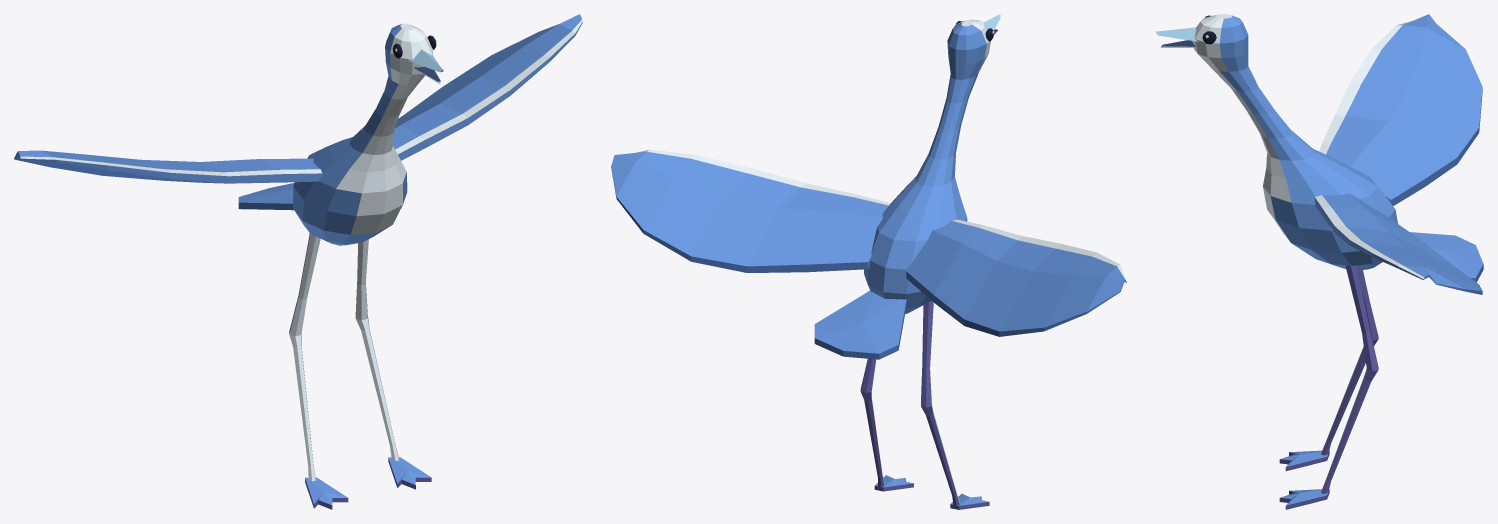
Rendered from reference_bird.glb.
3 views of the same model, side by side, from view 1: azimuth 30°, elevation 25°; view 2: azimuth 150°, elevation 25°; view 3: azimuth 270°, elevation 25° (orthographic). The views are drawn at different scales.
Visible parts, largest first — view 1: Body + flowing neck + head, Wing.L | shoulder pivot, Wing.R | shoulder pivot, Leg.R | long angular shank, Leg.L | long angular shank, Tail | broad fan, Webbed foot.R, Webbed foot.L; view 2: Wing.L | shoulder pivot, Wing.R | shoulder pivot, Body + flowing neck + head, Tail | broad fan, Leg.R | long angular shank, Leg.L | long angular shank; view 3: Wing.R | shoulder pivot, Body + flowing neck + head, Wing.L | shoulder pivot, Leg.L | long angular shank, Tail | broad fan, Leg.R | long angular shank, Webbed foot.L, Webbed foot.R, Beak | upper.
Boxes of the visible parts, box(x1,y1,x2,y2) form: Body + flowing neck + head: box(293, 23, 433, 245); Wing.L | shoulder pivot: box(393, 14, 582, 160); Wing.R | shoulder pivot: box(14, 150, 322, 183); Leg.R | long angular shank: box(289, 233, 320, 481); Leg.L | long angular shank: box(355, 239, 399, 460); Tail | broad fan: box(238, 183, 294, 210); Webbed foot.R: box(305, 477, 348, 509); Webbed foot.L: box(388, 457, 431, 489); Wing.L | shoulder pivot: box(611, 149, 890, 272); Wing.R | shoulder pivot: box(906, 219, 1126, 336); Body + flowing neck + head: box(864, 19, 990, 313); Tail | broad fan: box(814, 290, 906, 359); Leg.R | long angular shank: box(921, 301, 960, 505); Leg.L | long angular shank: box(860, 358, 884, 486); Wing.R | shoulder pivot: box(1319, 14, 1482, 205); Body + flowing neck + head: box(1192, 14, 1397, 270); Wing.L | shoulder pivot: box(1314, 193, 1482, 294); Leg.L | long angular shank: box(1321, 265, 1378, 493); Tail | broad fan: box(1410, 232, 1483, 282); Leg.R | long angular shank: box(1321, 270, 1378, 455); Webbed foot.L: box(1279, 489, 1329, 509); Webbed foot.R: box(1279, 450, 1329, 471); Beak | upper: box(1156, 27, 1198, 41).
Bounding box in the file's own units: 7.28 × 6.11 × 3.88.
